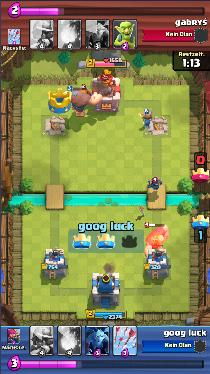ally_giant: (65, 90, 102, 118)
ally_wallbreaker: (139, 110, 153, 128)
enemy_giant: (144, 223, 169, 255)
enemy_knight: (75, 85, 91, 97)
enemy_mini_pekka: (148, 179, 163, 189)
